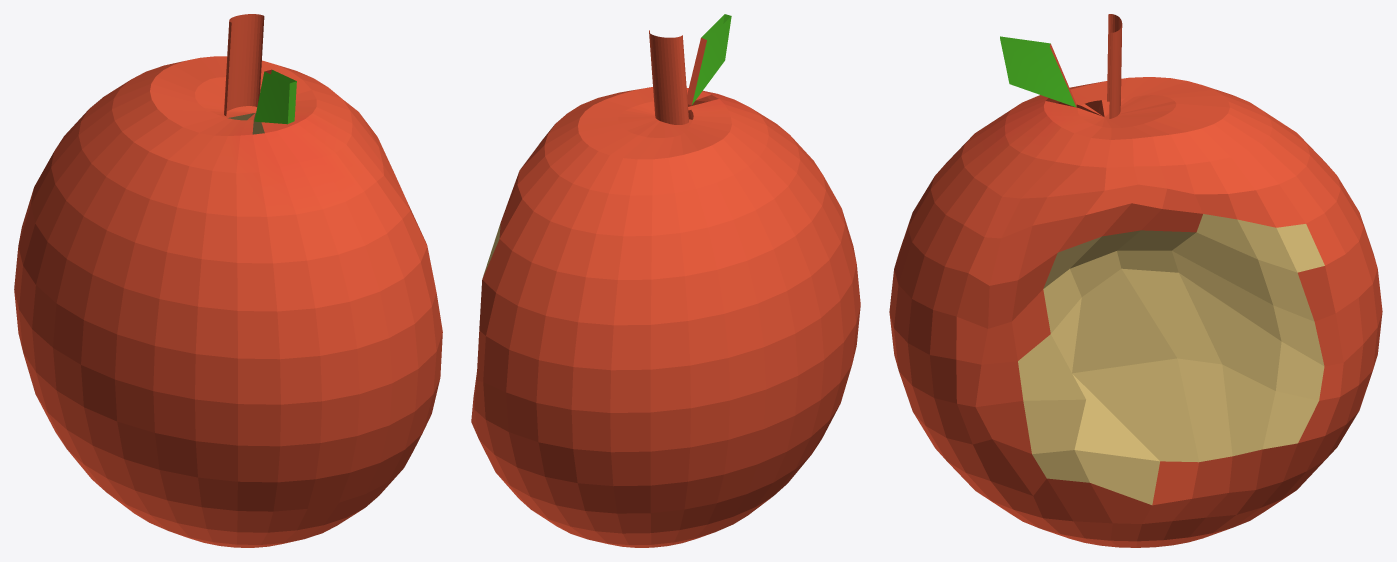
The model's file is Manzana 1.fbx.
3 views of the same model, side by side, from view 1: azimuth 30°, elevation 25°; view 2: azimuth 150°, elevation 25°; view 3: azimuth 270°, elevation 25° (orthographic). The views are drawn at different scales.
Visible parts, largest first — view 1: Esfera.004, Esfera.007; view 2: Esfera.004, Esfera.007; view 3: Esfera.004, Esfera.005, Esfera.007.
Part boxes in pixels (x1,y1,x2,y2): Esfera.004: (14,14,442,547); Esfera.007: (254,70,296,124); Esfera.004: (471,30,860,547); Esfera.007: (692,14,731,104); Esfera.004: (889,14,1382,547); Esfera.005: (1018,214,1324,504); Esfera.007: (1000,36,1076,107).
Size of the model in its own units: 290 by 465 by 407.
